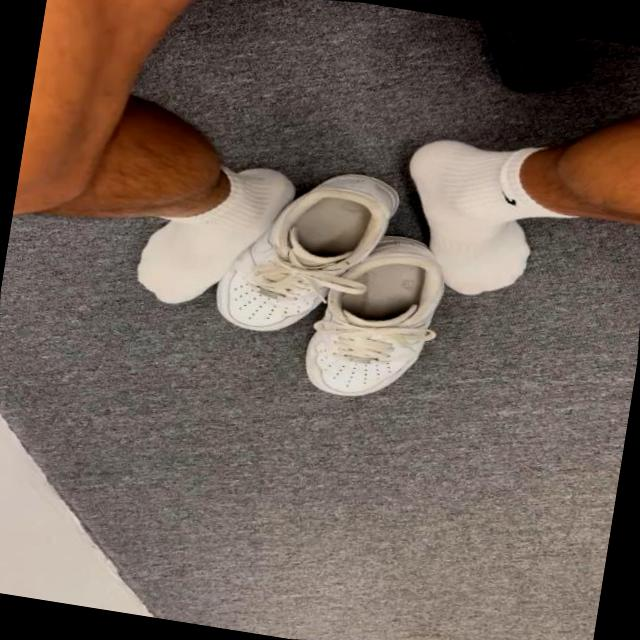nike_original_airforce: (191, 140, 414, 353), (282, 219, 468, 418)
